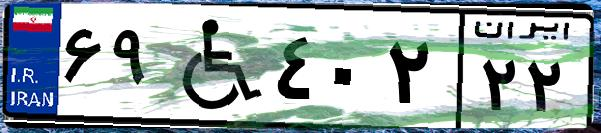0: (330, 28, 385, 110)
2: (385, 28, 445, 110), (475, 38, 525, 113), (525, 38, 570, 115)
4: (270, 28, 330, 110)
6: (57, 26, 110, 100)
9: (110, 28, 158, 98)
ژ (معلولین و جانبازان): (158, 12, 270, 120)
